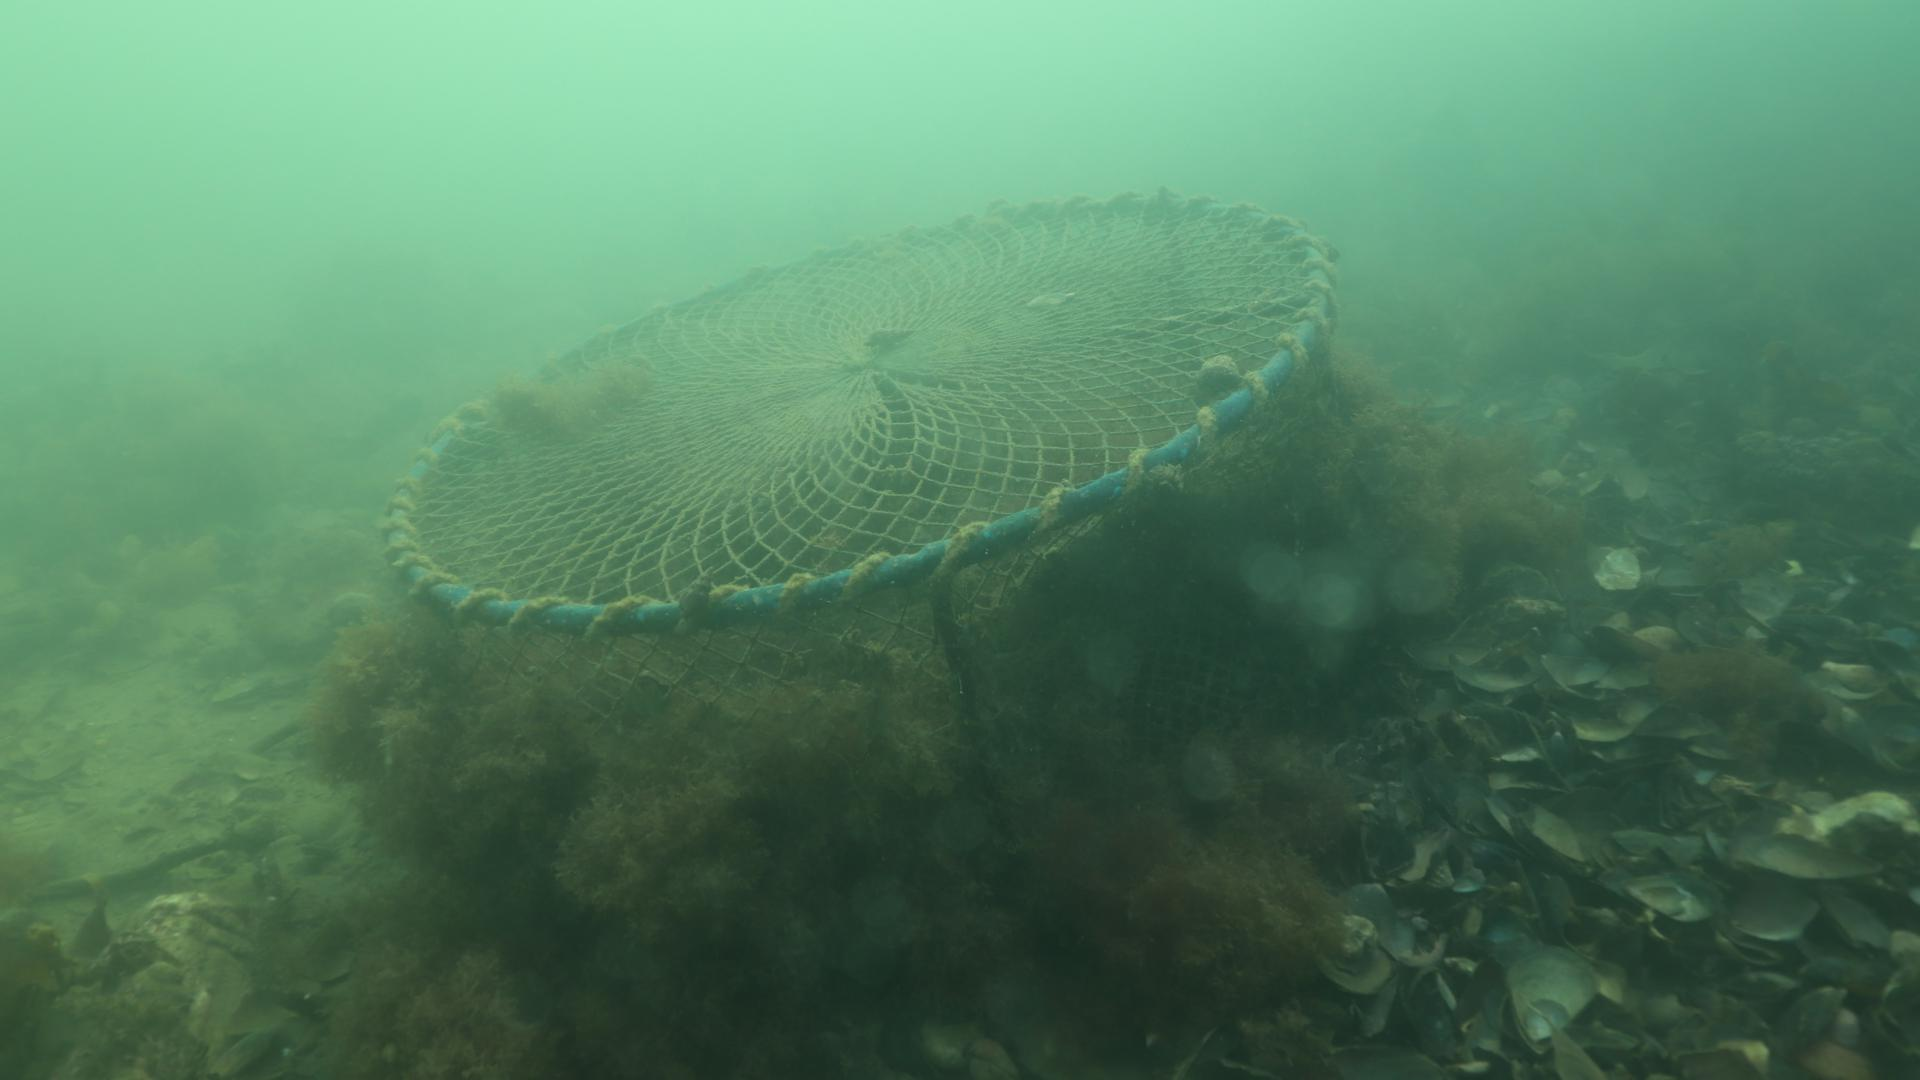circular fish trap: (378, 189, 1340, 814)
